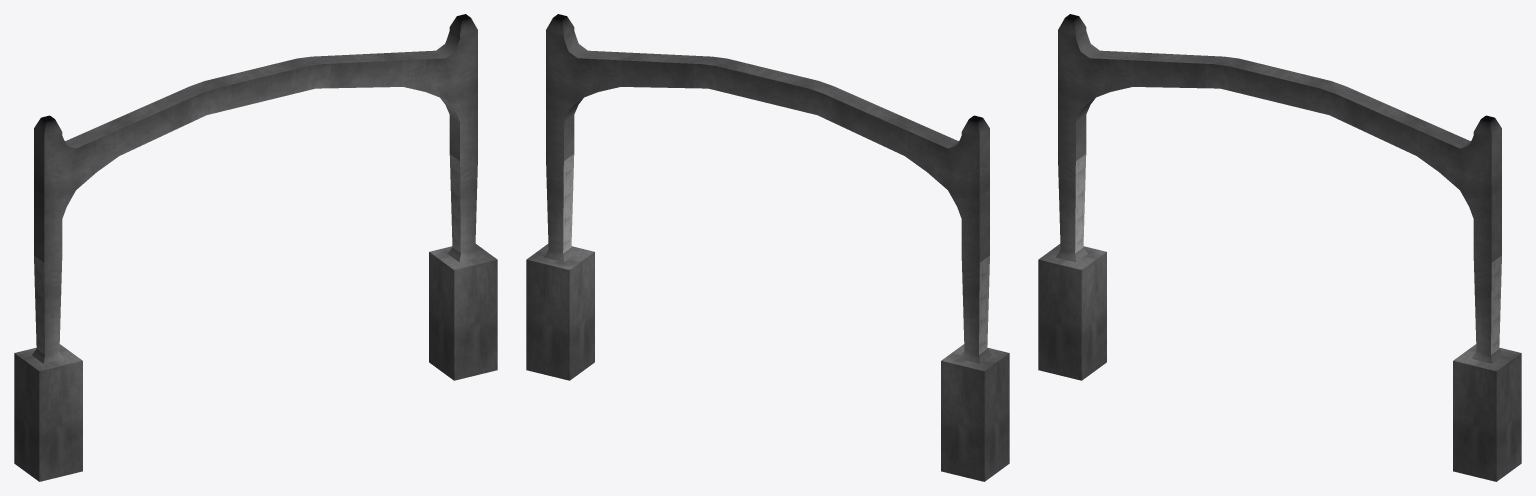
File: KASENCHU_ASAKUSA.glb
The picture shows the model from 3 angles, left to right: view 1: azimuth 30°, elevation 25°; view 2: azimuth 150°, elevation 25°; view 3: azimuth 330°, elevation 25°; orthographic projection.
Visible parts, largest first — view 1: obj20; view 2: obj20; view 3: obj20.
Boxes of the visible parts, bbox=[...] form: obj20: bbox=[14, 14, 497, 481]; obj20: bbox=[526, 14, 1009, 481]; obj20: bbox=[1038, 14, 1521, 481].
Bounding box in the file's own units: 25.52 × 18.59 × 2.42.
3 materials, 3 textured.
